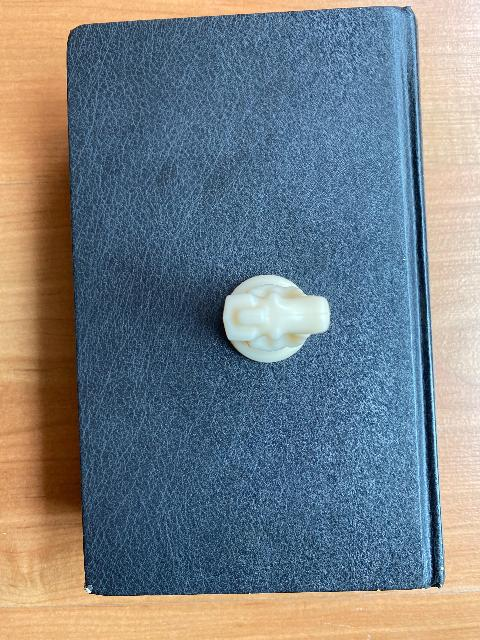white-knight: (222, 273, 331, 363)
